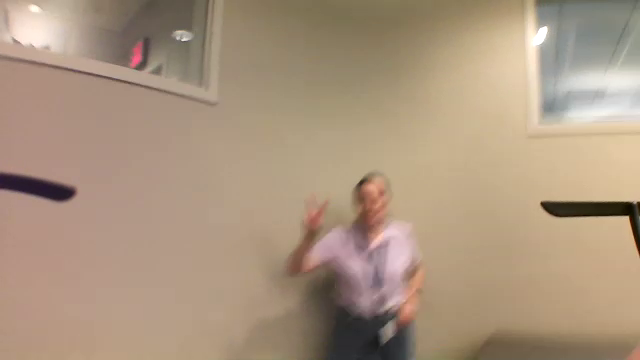peace: (299, 188, 333, 237)
